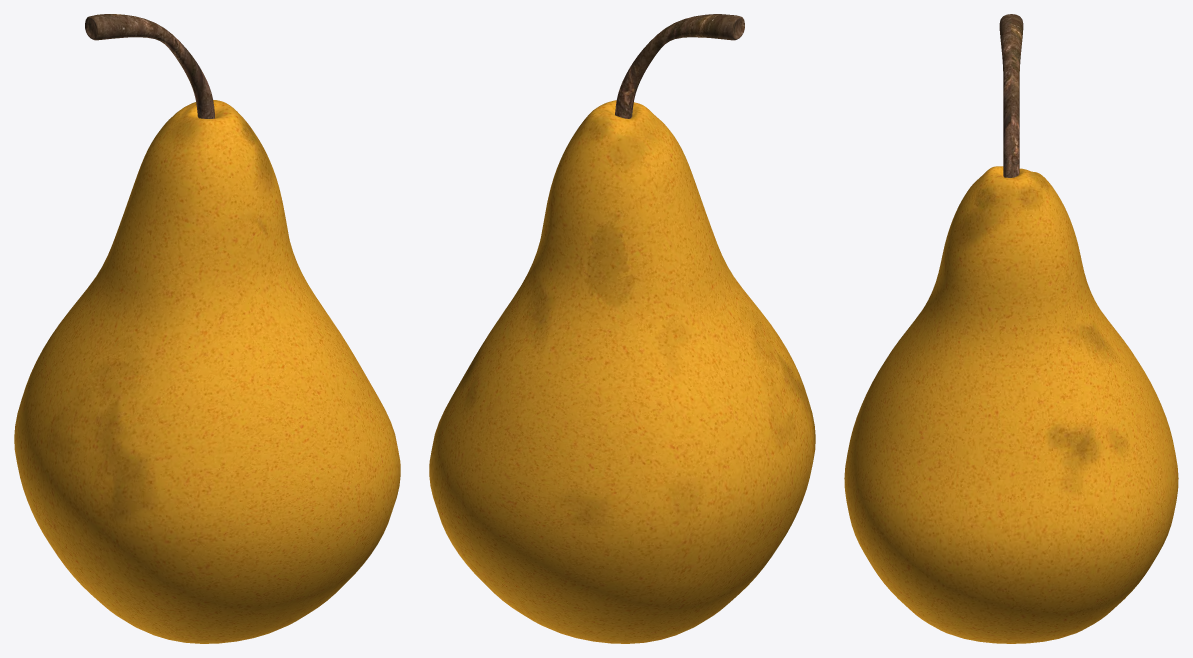
File: papaya-2.glb
3 renders of one model, left to right at view 1: azimuth 30°, elevation 25°; view 2: azimuth 150°, elevation 25°; view 3: azimuth 270°, elevation 25°, orthographic. The views are drawn at different scales.
Parts seen in each view (by area): view 1: pear_grey_low_0; view 2: pear_grey_low_0; view 3: pear_grey_low_0.
Part boxes in pixels (x1,y1,x2,y2): pear_grey_low_0: [14, 14, 400, 643]; pear_grey_low_0: [429, 14, 815, 643]; pear_grey_low_0: [844, 14, 1178, 643].
Size of the model in its own units: 223 by 404 by 221.
1 material, 1 textured.
